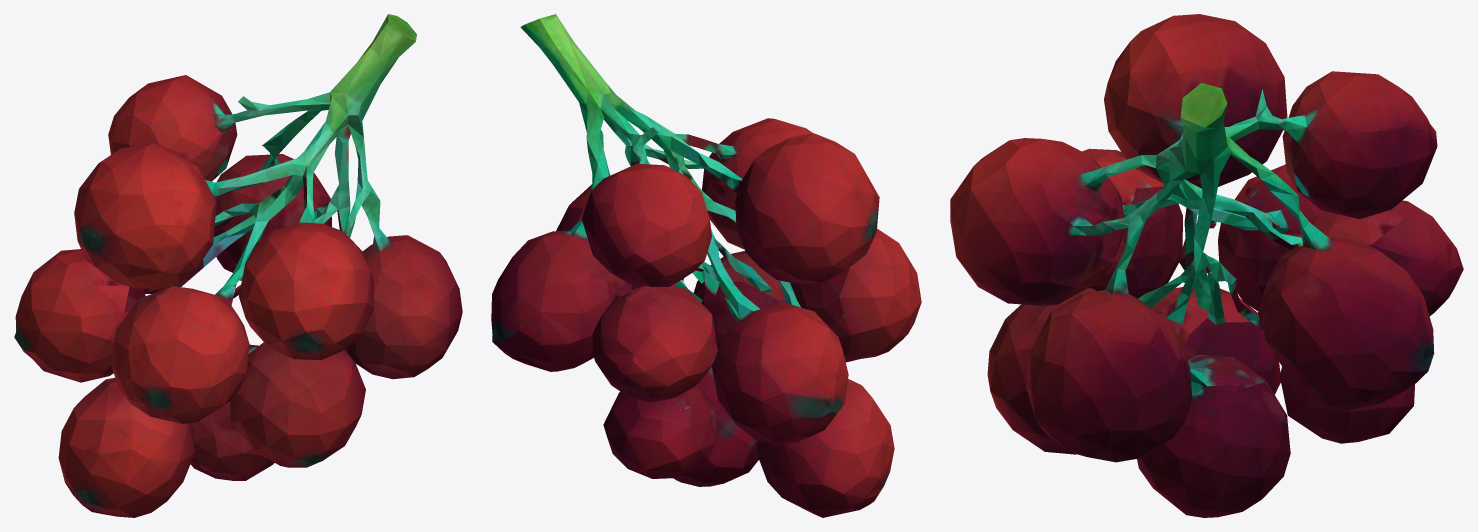
Rendered from berry_red.glb.
3 views of the same model, side by side, from view 1: azimuth 30°, elevation 25°; view 2: azimuth 150°, elevation 25°; view 3: azimuth 270°, elevation 25° (orthographic). The views are drawn at different scales.
Visible parts, largest first — view 1: tmpg_yrd2ge.ply; view 2: tmpg_yrd2ge.ply; view 3: tmpg_yrd2ge.ply.
Part boxes in pixels (<box>): tmpg_yrd2ge.ply: <box>14,14,462,517</box>; tmpg_yrd2ge.ply: <box>491,14,921,517</box>; tmpg_yrd2ge.ply: <box>950,14,1463,517</box>.
Bounding box in the file's own units: 1.74 × 1.99 × 1.77.
1 material, 1 textured.
